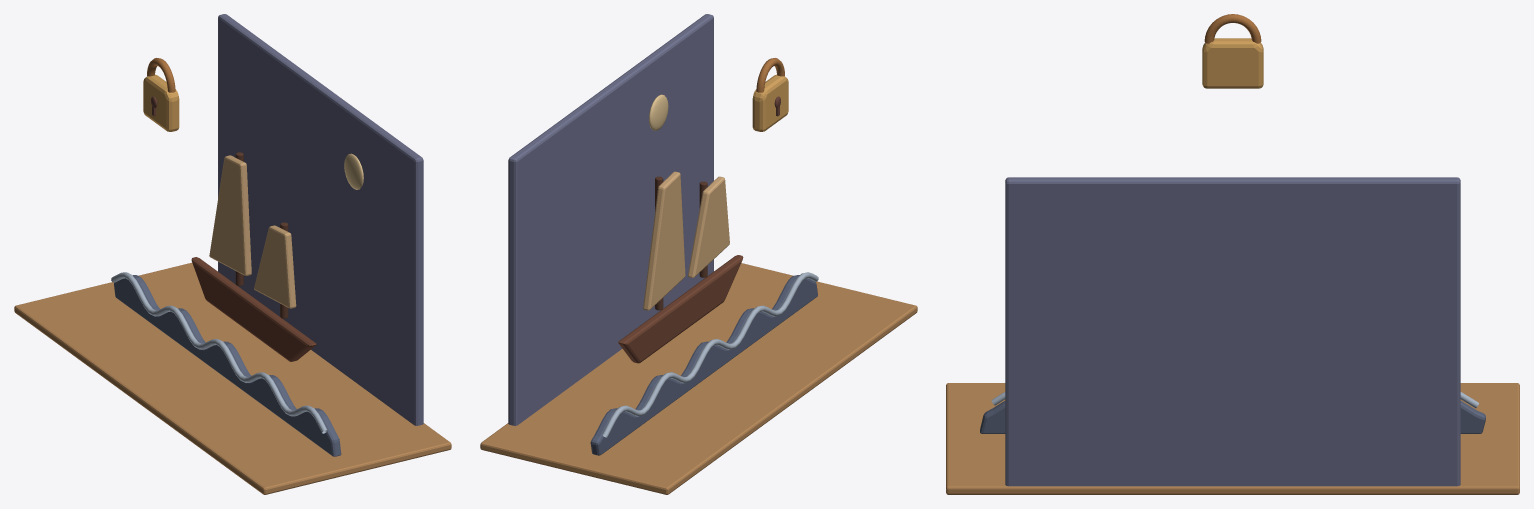
The model's file is SM_Hub_SeaPreview.fbx.
The picture shows the model from 3 angles, left to right: view 1: azimuth 30°, elevation 25°; view 2: azimuth 150°, elevation 25°; view 3: azimuth 270°, elevation 25°; orthographic projection. The views are drawn at different scales.
Visible parts, largest first — view 1: Painted night backdrop.002_Baked.001; view 2: Painted night backdrop.002_Baked.001; view 3: Painted night backdrop.002_Baked.001.
Boxes of the visible parts, box(x1,y1,x2,y2) form: Painted night backdrop.002_Baked.001: box(14, 14, 451, 494); Painted night backdrop.002_Baked.001: box(480, 14, 917, 494); Painted night backdrop.002_Baked.001: box(946, 14, 1519, 494).
Bounding box in the file's own units: 105 × 242 × 181.
